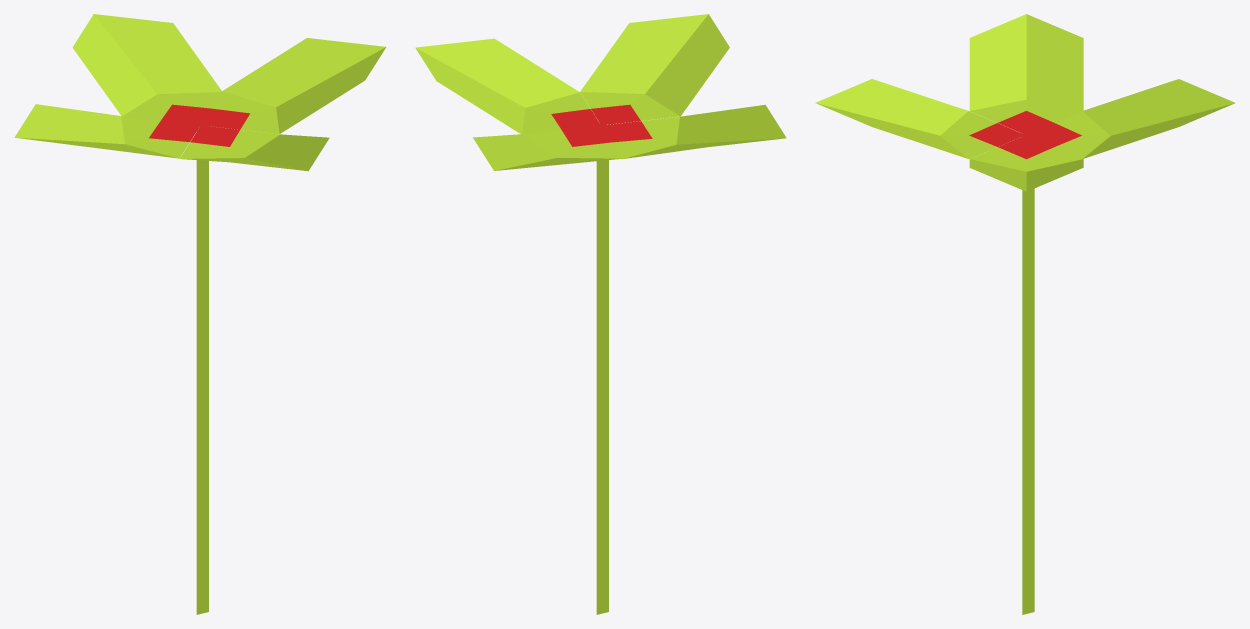
File: 3dModels.fbx
3 views of the same model, side by side, from view 1: azimuth 30°, elevation 25°; view 2: azimuth 150°, elevation 25°; view 3: azimuth 270°, elevation 25° (orthographic). The views are drawn at different scales.
Visible parts, largest first — view 1: Plane.004; view 2: Plane.004; view 3: Plane.004.
Boxes of the visible parts, box(x1,y1,x2,y2) form: Plane.004: box(14, 14, 386, 614); Plane.004: box(415, 14, 786, 614); Plane.004: box(815, 14, 1235, 614).
Size of the model in its own units: 12.24 by 16.33 by 12.24.
